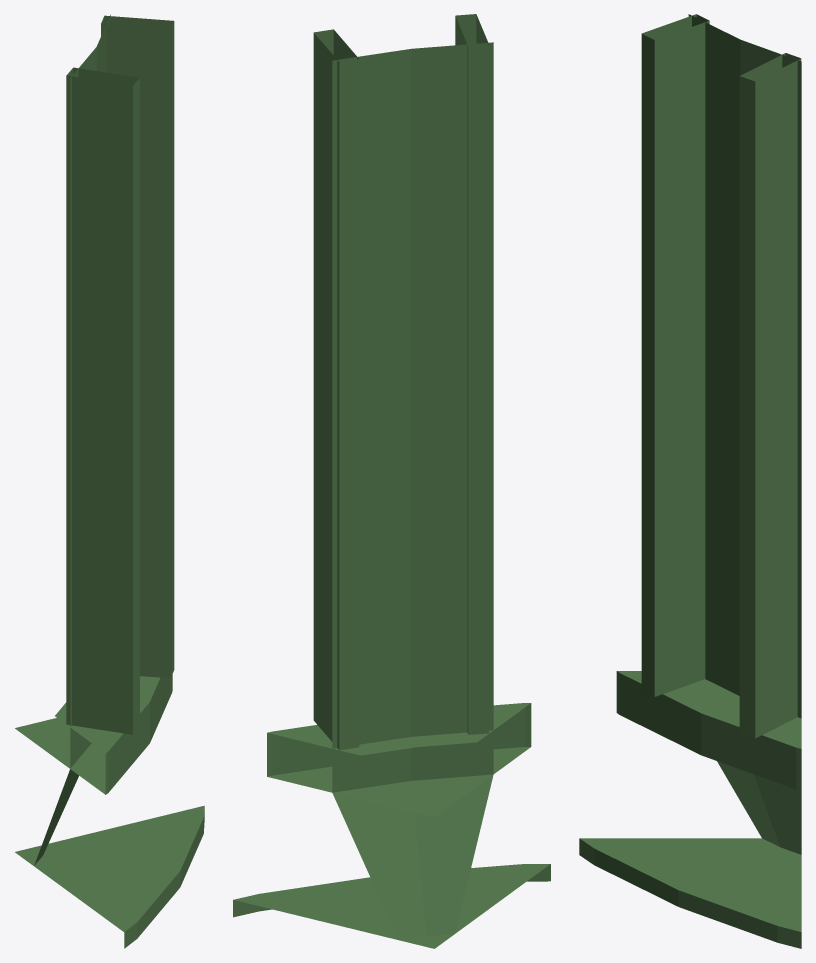
File: cell_43.obj
The picture shows the model from 3 angles, left to right: view 1: azimuth 30°, elevation 25°; view 2: azimuth 150°, elevation 25°; view 3: azimuth 270°, elevation 25°; orthographic projection. The views are drawn at different scales.
Size of the model in its own units: 0.2393 by 1 by 0.2393.
